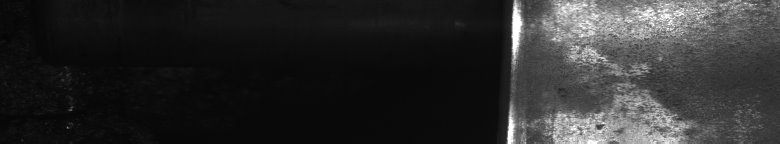kb: (524, 4, 768, 136)
